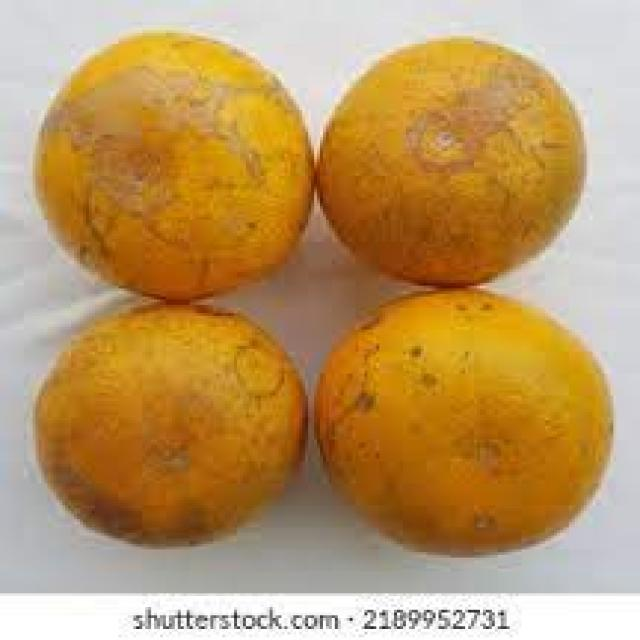overripe: (310, 280, 614, 560), (22, 24, 314, 300), (322, 29, 593, 293), (30, 298, 312, 550)
